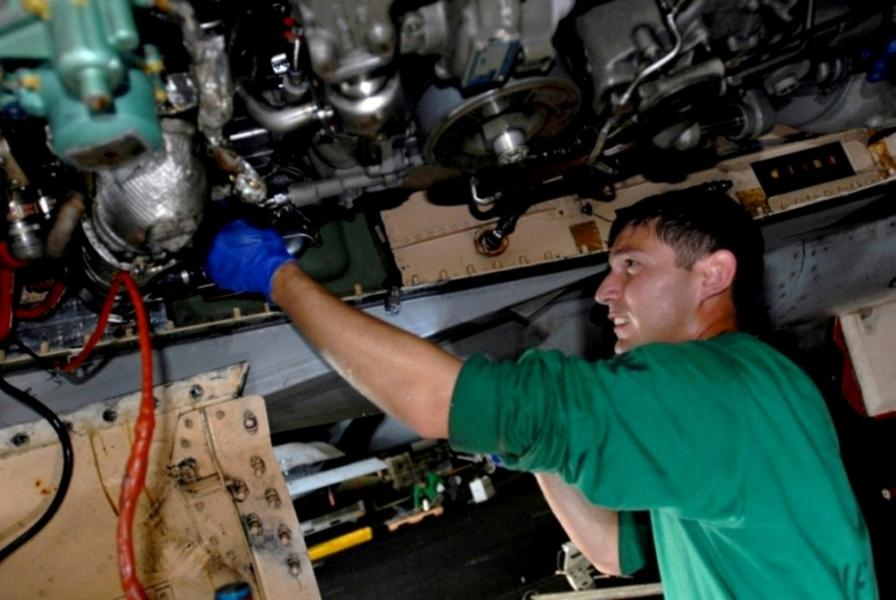person: (210, 187, 883, 600)
